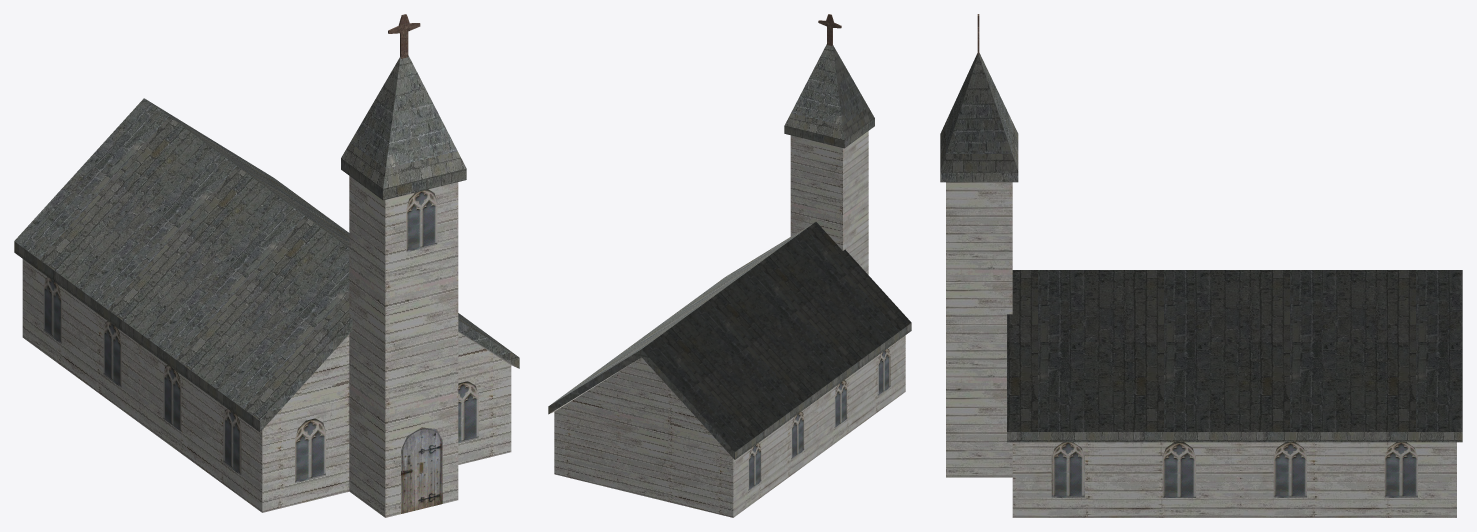
File: psx_abandoned_church.glb
3 views of the same model, side by side, from view 1: azimuth 30°, elevation 25°; view 2: azimuth 150°, elevation 25°; view 3: azimuth 270°, elevation 25° (orthographic). The views are drawn at different scales.
Parts seen in each view (by area): view 1: church; view 2: church; view 3: church.
Boxes of the visible parts, box(x1,y1,x2,y2) form: church: box(14, 14, 519, 517); church: box(548, 14, 911, 517); church: box(940, 14, 1462, 517).
Size of the model in its own units: 8.76 by 15.52 by 16.46.
5 materials, 5 textured.
